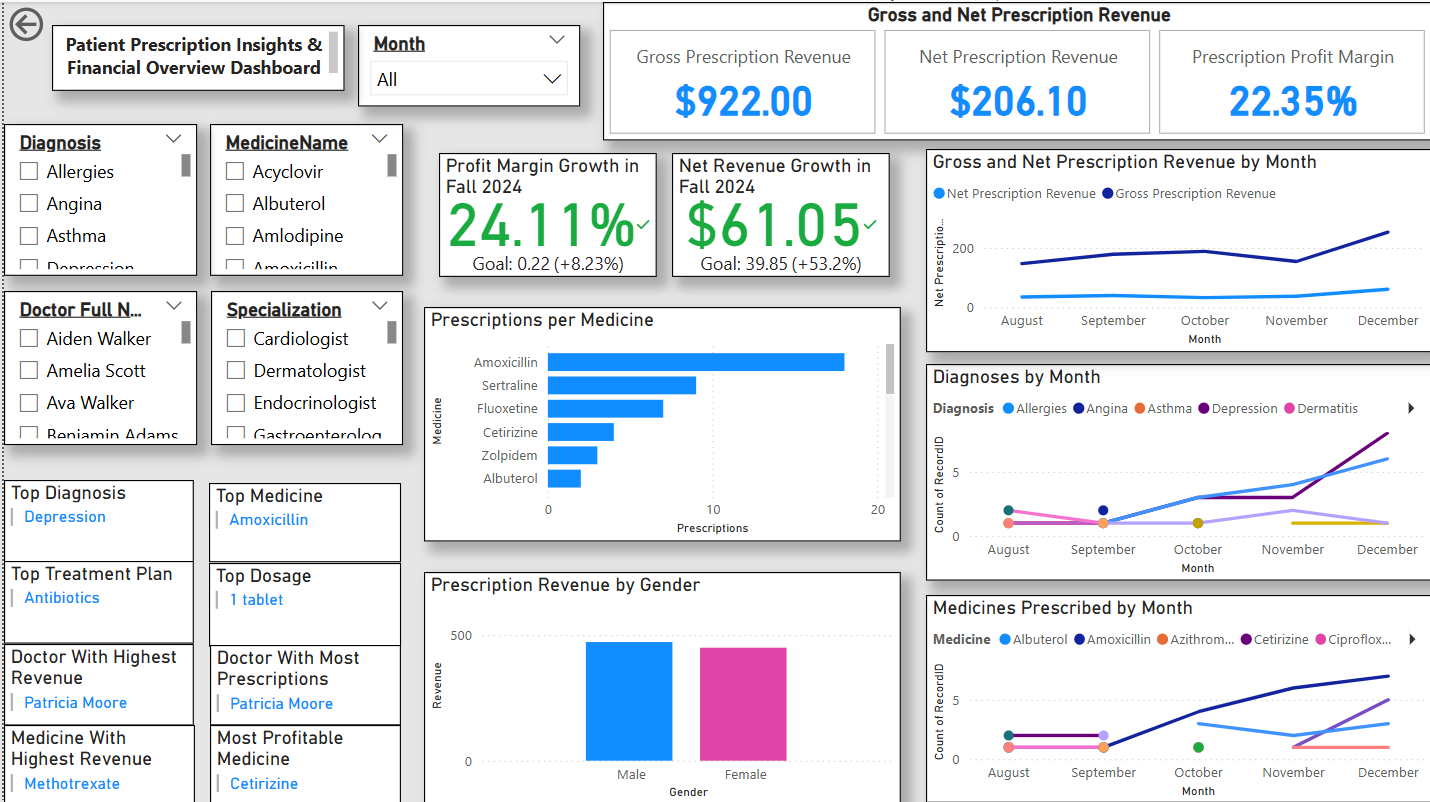

What the dashboard file says about the page in this screenshot:
{"tool":"powerbi","page":{"name":"BP-2-PatientPrescriptionInsights","canvas":[1280,720],"ordinal":3},"visuals":[{"type":"cardVisual","title":"Gross and Net Prescription Revenue","fields":{"Data":["FACT_MEDICALRECORDS.GrossPrescriptionRevenue","FACT_MEDICALRECORDS.NetPrescriptionRevenue","FACT_MEDICALRECORDS.Prescription Profit Margin"]},"box":[536.1,0,743.9,124.2],"z":0},{"type":"lineChart","title":"Diagnoses by Month","fields":{"Category":["DIM_Date.Date.Variation.Date Hierarchy.Month"],"Y":["FACT_MEDICALRECORDS.RecordID"],"Series":["FACT_MEDICALRECORDS.Diagnosis"]},"box":[825.3,324.4,454.7,194.2],"z":1000},{"type":"lineChart","title":"Gross and Net Prescription Revenue by Month","fields":{"Category":["DIM_Date.Date.Variation.Date Hierarchy.Month"],"Y":["FACT_MEDICALRECORDS.Net Prescription Revenue","FACT_MEDICALRECORDS.Gross Prescription Revenue"]},"box":[825.5,131.8,454.5,181.8],"z":2000},{"type":"lineChart","title":"Medicines Prescribed by Month","fields":{"Category":["DIM_Date.Date.Variation.Date Hierarchy.Month"],"Y":["FACT_MEDICALRECORDS.RecordID"],"Series":["DIM_Medicine.MedicineName"]},"box":[825.3,531.4,454.7,187.2],"z":3000},{"type":"slicer","fields":{"Values":["DIM_Medicine.MedicineName"]},"box":[184.8,109.1,172.7,136.4],"z":4000},{"type":"slicer","fields":{"Values":["FACT_MEDICALRECORDS.Diagnosis"]},"box":[0,109.1,172.7,136.4],"z":5000},{"type":"actionButton","box":[0,0,100,40],"z":6000},{"type":"slicer","fields":{"Values":["DIM_Date.Date.Variation.Date Hierarchy.Month"]},"box":[317,20.6,199,72.7],"z":7000},{"type":"slicer","fields":{"Values":["DIM_Doctor.Doctor Full Name"]},"box":[0,259.1,173.1,137.8],"z":8000},{"type":"kpi","title":"Profit Margin Growth in Fall 2024","fields":{"Indicator":["FACT_MEDICALRECORDS.December Profit Margin"],"TrendLine":["DIM_Date.Date.Variation.Date Hierarchy.Month"],"Goal":["FACT_MEDICALRECORDS.September Profit Margin"]},"box":[389.4,134.8,195.5,110.6],"z":9000},{"type":"kpi","title":"Net Revenue Growth in Fall 2024","fields":{"Indicator":["FACT_MEDICALRECORDS.December Net Prescription Revenue"],"Goal":["FACT_MEDICALRECORDS.September Net Prescription Revenue"],"TrendLine":["DIM_Date.Date"]},"box":[598.5,134.8,195.5,110.6],"z":10000},{"type":"multiRowCard","title":"Top Medicine","fields":{"Values":["DIM_Medicine.MedicineName"]},"box":[183.9,430.9,171.5,71.4],"z":11000},{"type":"multiRowCard","title":"Doctor With Highest Revenue","fields":{"Values":["DIM_Doctor.Doctor Full Name"]},"box":[0,575,170.2,72.7],"z":12000},{"type":"multiRowCard","title":"Top Diagnosis","fields":{"Values":["FACT_MEDICALRECORDS.Diagnosis"]},"box":[0,428.1,170.2,74.1],"z":13000},{"type":"multiRowCard","title":"Top Dosage","fields":{"Values":["DIM_Prescription.Dosage"]},"box":[183.9,502.2,171.5,75.5],"z":14000},{"type":"multiRowCard","title":"Doctor With Most Prescriptions","fields":{"Values":["DIM_Doctor.Doctor Full Name"]},"box":[184.4,575.6,171.2,72.4],"z":15000},{"type":"multiRowCard","title":"Medicine With Highest Revenue","fields":{"Values":["DIM_Medicine.MedicineName"]},"box":[0,647.1,170.6,72.9],"z":16000},{"type":"multiRowCard","title":"Most Profitable Medicine","fields":{"Values":["DIM_Medicine.MedicineName"]},"box":[184.4,647.6,171.2,72.4],"z":17000},{"type":"textbox","box":[42.5,20.6,262.1,59],"z":18000},{"type":"multiRowCard","title":"Top Treatment Plan","fields":{"Values":["FACT_MEDICALRECORDS.TreatmentPlan"]},"box":[0,500.9,170.2,74.1],"z":19000},{"type":"slicer","fields":{"Values":["DIM_Doctor.Specialization"]},"box":[185.8,259.1,171.9,137.8],"z":20000},{"type":"clusteredColumnChart","title":"Prescription Revenue by Gender","fields":{"Category":["DIM_Patient.Gender"],"Y":["FACT_MEDICALRECORDS.InvoiceAmount"]},"box":[375.8,510.6,427.3,209.1],"z":21000},{"type":"clusteredBarChart","title":"Prescriptions per Medicine","fields":{"Y":["FACT_MEDICALRECORDS.RecordID"],"Category":["DIM_Medicine.MedicineName"]},"box":[376.4,273,427.2,209.8],"z":22000}]}

Visuals, with their boxes in screenshot pixels (x1, y1, x2, y2), scaled from the page's 1280x720 canvas onto the 1430x802 screenshot:
"Gross and Net Prescription Revenue" cardVisual: Rect(599, 0, 1429, 138)
"Diagnoses by Month" lineChart: Rect(922, 361, 1429, 578)
"Gross and Net Prescription Revenue by Month" lineChart: Rect(922, 147, 1429, 349)
"Medicines Prescribed by Month" lineChart: Rect(922, 592, 1429, 800)
slicer - DIM_Medicine.MedicineName: Rect(206, 122, 399, 273)
slicer - FACT_MEDICALRECORDS.Diagnosis: Rect(0, 122, 193, 273)
actionButton: Rect(0, 0, 112, 45)
slicer - DIM_Date.Date.Variation.Date Hierarchy.Month: Rect(354, 23, 576, 104)
slicer - DIM_Doctor.Doctor Full Name: Rect(0, 289, 193, 442)
"Profit Margin Growth in Fall 2024" kpi: Rect(435, 150, 653, 273)
"Net Revenue Growth in Fall 2024" kpi: Rect(669, 150, 887, 273)
"Top Medicine" multiRowCard: Rect(205, 480, 397, 560)
"Doctor With Highest Revenue" multiRowCard: Rect(0, 640, 190, 721)
"Top Diagnosis" multiRowCard: Rect(0, 477, 190, 559)
"Top Dosage" multiRowCard: Rect(205, 559, 397, 643)
"Doctor With Most Prescriptions" multiRowCard: Rect(206, 641, 397, 722)
"Medicine With Highest Revenue" multiRowCard: Rect(0, 721, 191, 801)
"Most Profitable Medicine" multiRowCard: Rect(206, 721, 397, 801)
textbox: Rect(47, 23, 340, 89)
"Top Treatment Plan" multiRowCard: Rect(0, 558, 190, 640)
slicer - DIM_Doctor.Specialization: Rect(208, 289, 400, 442)
"Prescription Revenue by Gender" clusteredColumnChart: Rect(420, 569, 897, 801)
"Prescriptions per Medicine" clusteredBarChart: Rect(421, 304, 898, 538)
